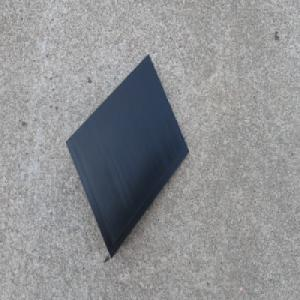PlasticPart: (64, 52, 190, 261)
